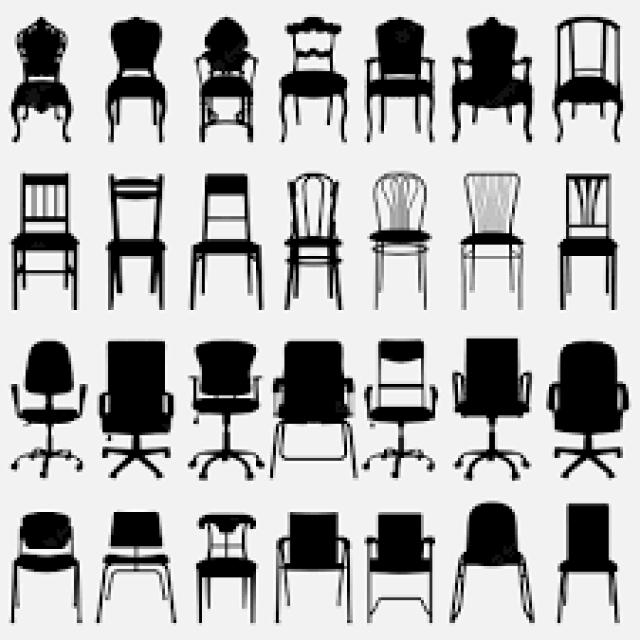chair: (264, 330, 368, 498), (449, 331, 553, 492), (176, 167, 274, 336), (436, 14, 546, 157), (173, 336, 270, 498), (355, 332, 448, 499), (538, 172, 640, 324), (180, 18, 284, 166), (346, 166, 442, 326), (4, 336, 97, 501), (540, 336, 640, 489), (536, 14, 640, 160), (266, 169, 363, 325), (0, 12, 97, 167), (266, 5, 363, 160), (89, 337, 188, 488), (0, 158, 94, 316), (444, 494, 548, 636), (446, 166, 536, 328), (545, 490, 640, 640), (78, 504, 190, 630), (94, 15, 187, 162), (0, 503, 101, 638), (355, 5, 446, 154), (273, 502, 363, 638), (98, 174, 181, 321), (184, 508, 278, 637), (354, 508, 448, 637)
